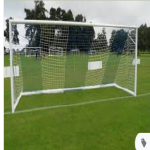goals: (9, 18, 138, 113)
